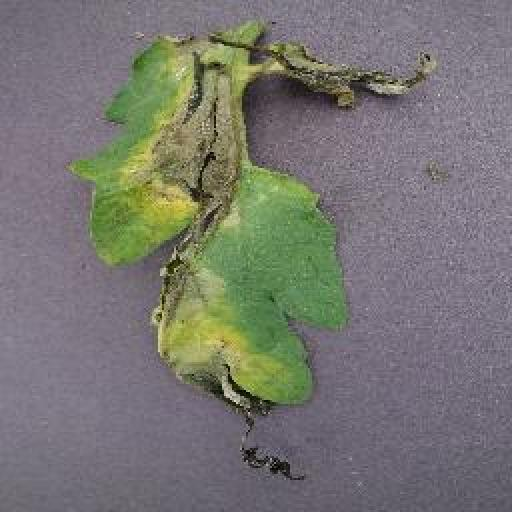disease_tomato: (70, 16, 434, 484)
